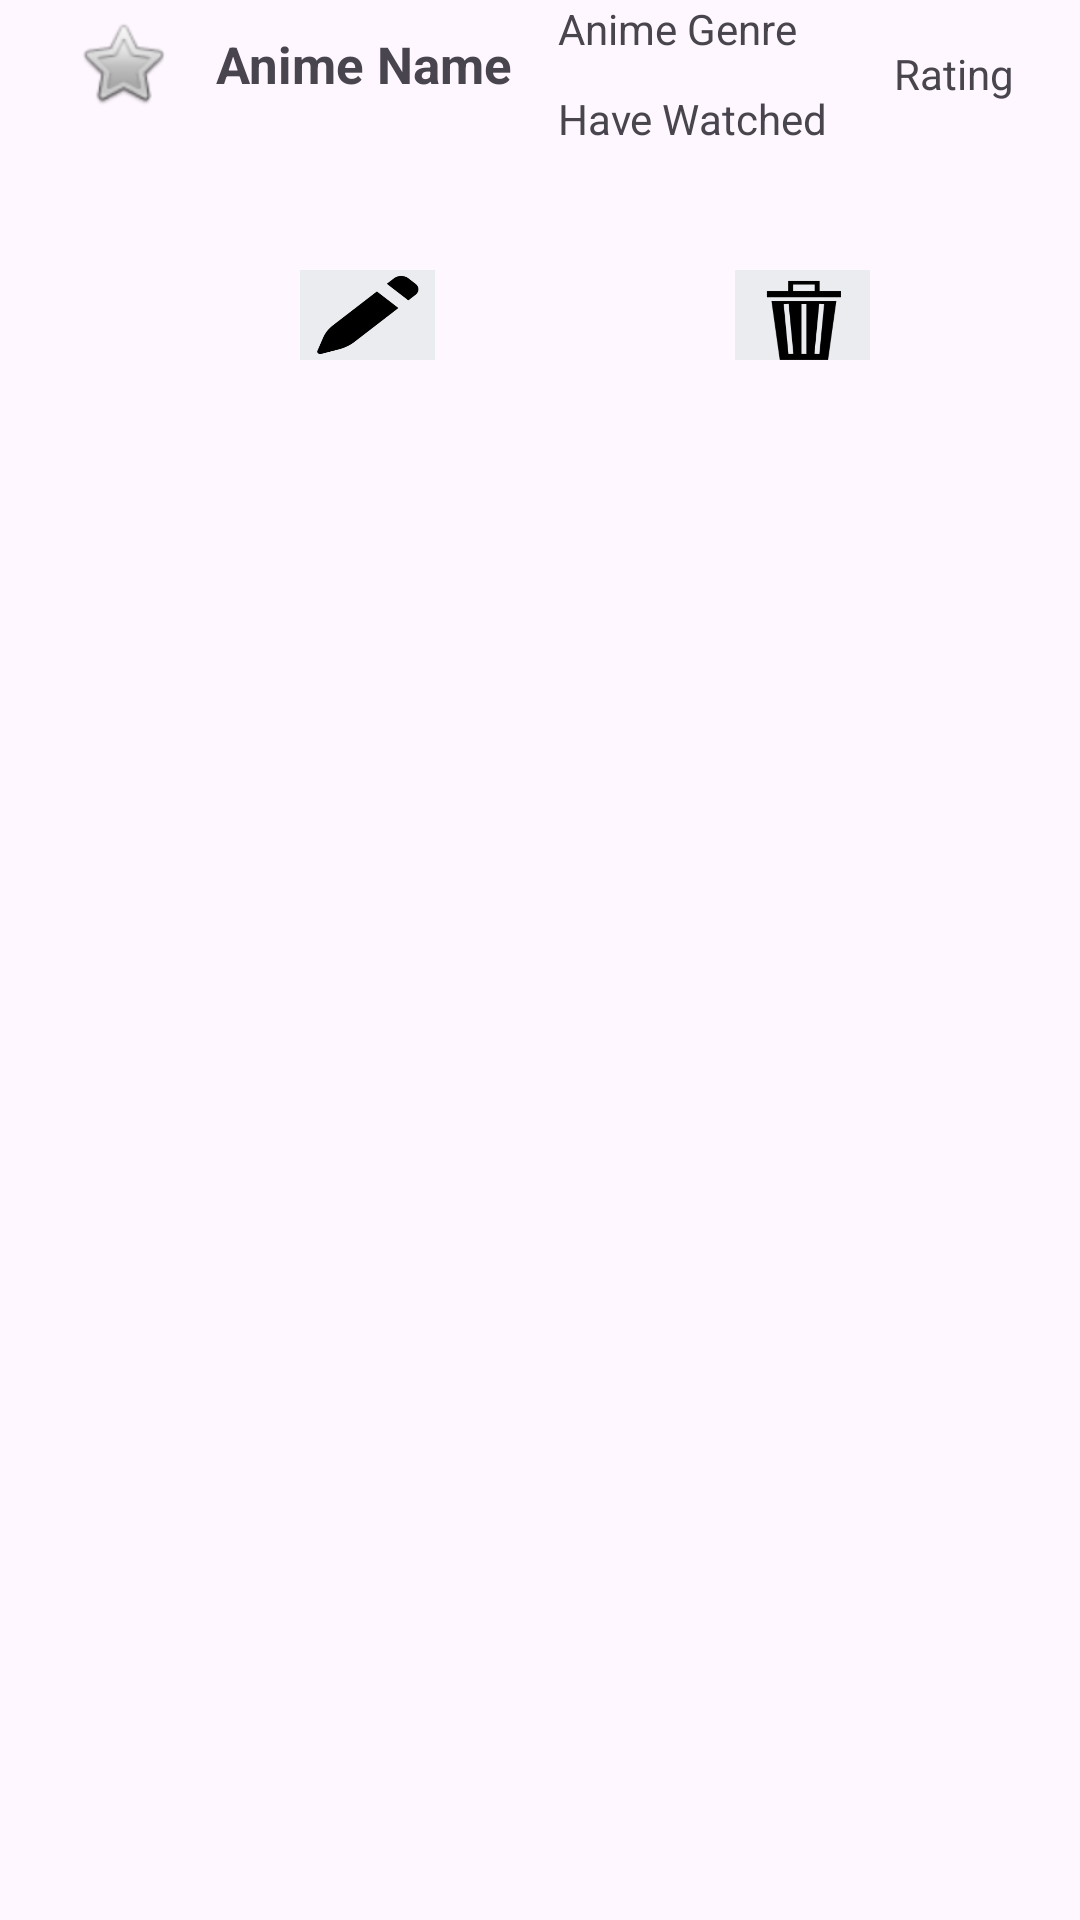

Screen size 1080 x 1920. Icon name, then its box in pixels as (x1=x1, y1=y1, x2=x2, y2=y2):
pencil: (x1=300, y1=270, x2=435, y2=360)
trash can: (x1=766, y1=280, x2=841, y2=360)
